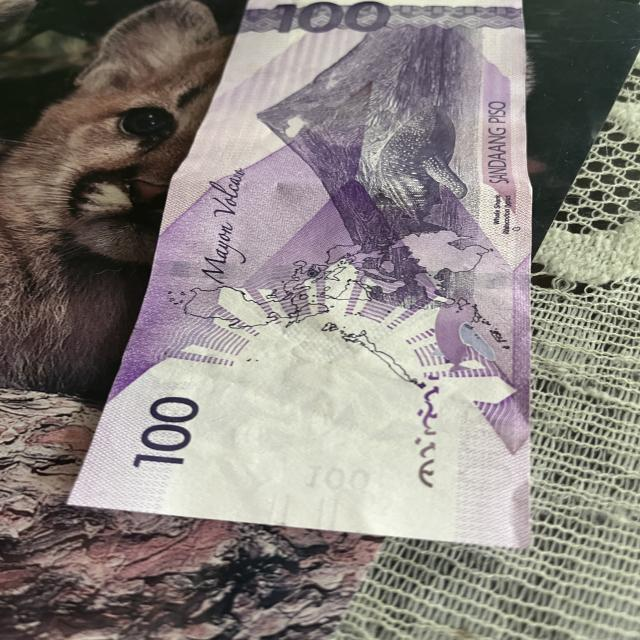security_thread: (156, 252, 530, 309)
value: (266, 0, 395, 41)
value_watermark: (298, 462, 376, 503)
